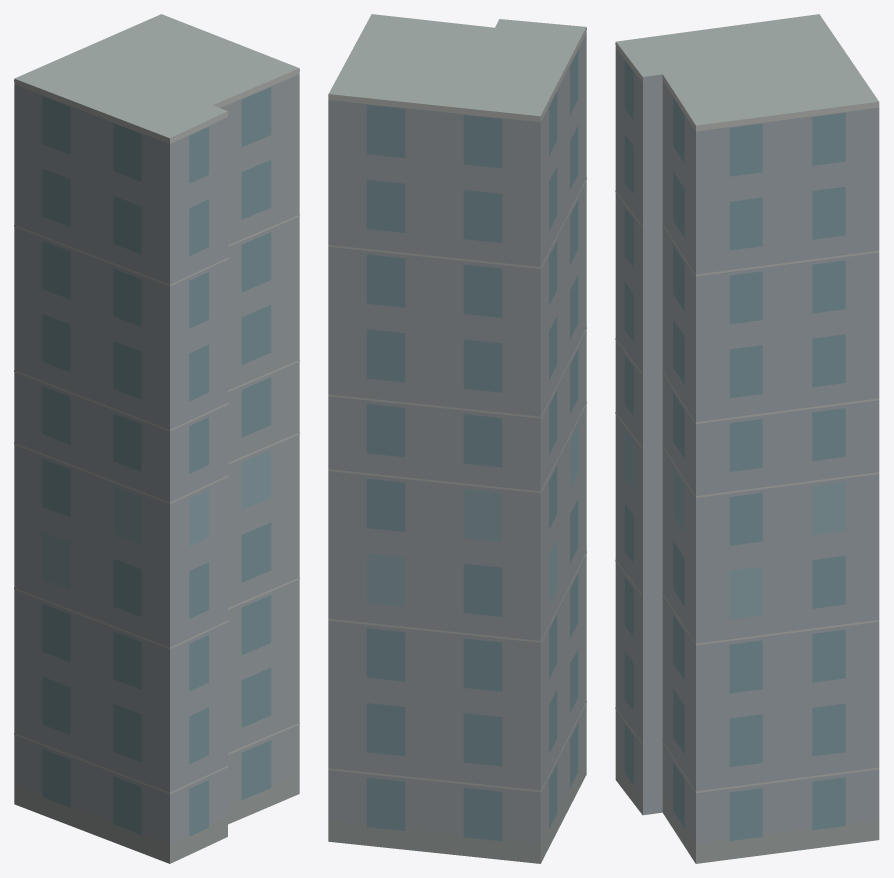
The model's file is survey-upis-32569257.glb.
3 renders of one model, left to right at view 1: azimuth 30°, elevation 25°; view 2: azimuth 150°, elevation 25°; view 3: azimuth 270°, elevation 25°, orthographic. The views are drawn at different scales.
Parts seen in each view (by area): view 1: survey-upis-32569257.tmp; view 2: survey-upis-32569257.tmp; view 3: survey-upis-32569257.tmp.
Part boxes in pixels (x1=…): survey-upis-32569257.tmp: x1=14, y1=14, x2=299, y2=863; survey-upis-32569257.tmp: x1=328, y1=14, x2=586, y2=863; survey-upis-32569257.tmp: x1=615, y1=14, x2=879, y2=863.
Bounding box in the file's own units: 9.91 × 30.5 × 9.89.
